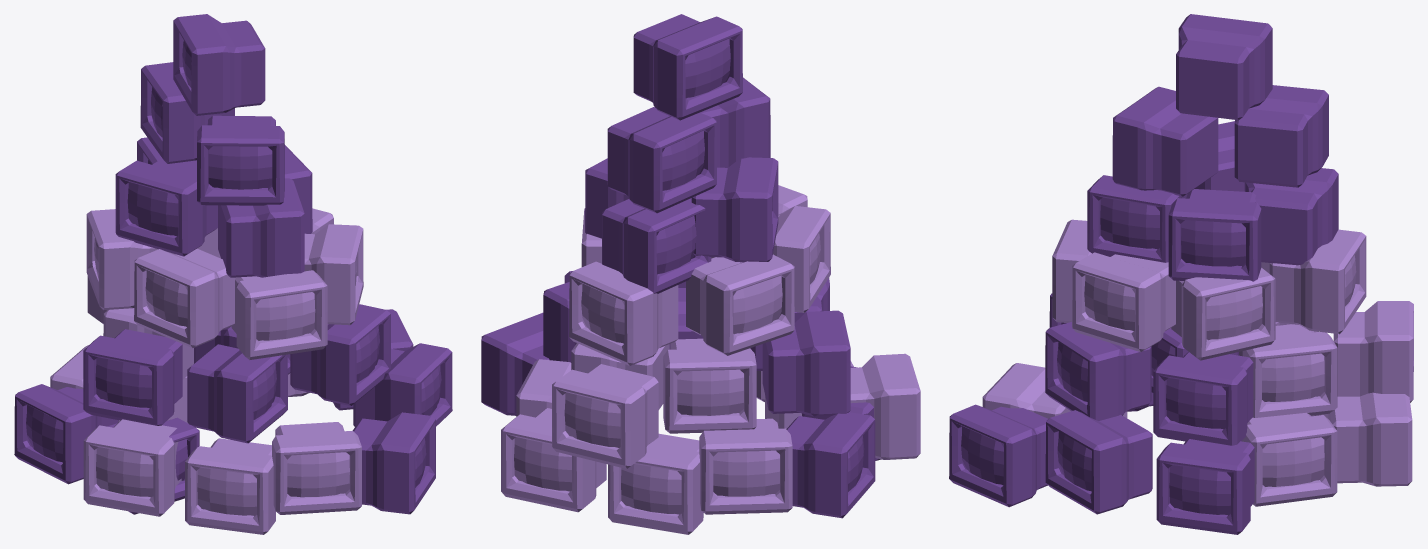
The model's file is tvs.glb.
3 views of the same model, side by side, from view 1: azimuth 30°, elevation 25°; view 2: azimuth 150°, elevation 25°; view 3: azimuth 270°, elevation 25° (orthographic). The views are drawn at different scales.
Visible parts, largest first — view 1: Tv.007, Tv.011, Tv.033, Tv.030, Tv.008, Tv.031, Tv.027, Tv.026, Tv.024, Tv.012, Tv.028, Tv.009 (+12 smaller); view 2: Tv.033, Tv.032, Tv.006, Tv.014, Tv.013, Tv.022, Tv.007, Tv.005, Tv.016, Tv.024, Tv.015, Tv.023 (+13 smaller); view 3: Tv.033, Tv.021, Tv.026, Tv.001, Tv.028, Tv.019, Tv.004, Tv.032, Tv.025, Tv.009, Tv.010, Tv.018 (+10 smaller).
Part boxes in pixels (x1=…): Tv.007: x1=83, y1=329, x2=182, y2=425; Tv.011: x1=134, y1=248, x2=235, y2=348; Tv.033: x1=173, y1=14, x2=265, y2=115; Tv.030: x1=83, y1=419, x2=181, y2=516; Tv.008: x1=187, y1=344, x2=287, y2=443; Tv.031: x1=272, y1=422, x2=361, y2=514; Tv.027: x1=185, y1=438, x2=275, y2=534; Tv.026: x1=197, y1=115, x2=284, y2=205; Tv.024: x1=115, y1=158, x2=217, y2=256; Tv.012: x1=231, y1=270, x2=327, y2=359; Tv.028: x1=353, y1=412, x2=435, y2=514; Tv.009: x1=290, y1=304, x2=390, y2=405; Tv.033: x1=633, y1=14, x2=742, y2=120; Tv.032: x1=607, y1=107, x2=716, y2=213; Tv.006: x1=552, y1=364, x2=658, y2=468; Tv.014: x1=686, y1=254, x2=794, y2=355; Tv.013: x1=569, y1=261, x2=678, y2=365; Tv.022: x1=699, y1=418, x2=792, y2=514; Tv.007: x1=762, y1=310, x2=850, y2=416; Tv.005: x1=663, y1=338, x2=756, y2=433; Tv.016: x1=786, y1=412, x2=875, y2=518; Tv.024: x1=691, y1=157, x2=778, y2=262; Tv.015: x1=608, y1=433, x2=703, y2=534; Tv.023: x1=602, y1=198, x2=711, y2=293; Tv.033: x1=1176, y1=14, x2=1272, y2=120; Tv.021: x1=1045, y1=410, x2=1152, y2=514; Tv.026: x1=1112, y1=86, x2=1218, y2=196; Tv.001: x1=1072, y1=252, x2=1175, y2=352; Tv.028: x1=949, y1=404, x2=1047, y2=507; Tv.019: x1=1156, y1=439, x2=1254, y2=534; Tv.004: x1=1153, y1=352, x2=1253, y2=445; Tv.032: x1=1234, y1=85, x2=1328, y2=187; Tv.025: x1=1168, y1=189, x2=1261, y2=281; Tv.009: x1=1045, y1=322, x2=1151, y2=420; Tv.010: x1=1171, y1=267, x2=1275, y2=360; Tv.018: x1=1241, y1=412, x2=1337, y2=506.
Bounding box in the file's own units: 3.61 × 4.01 × 3.85.
